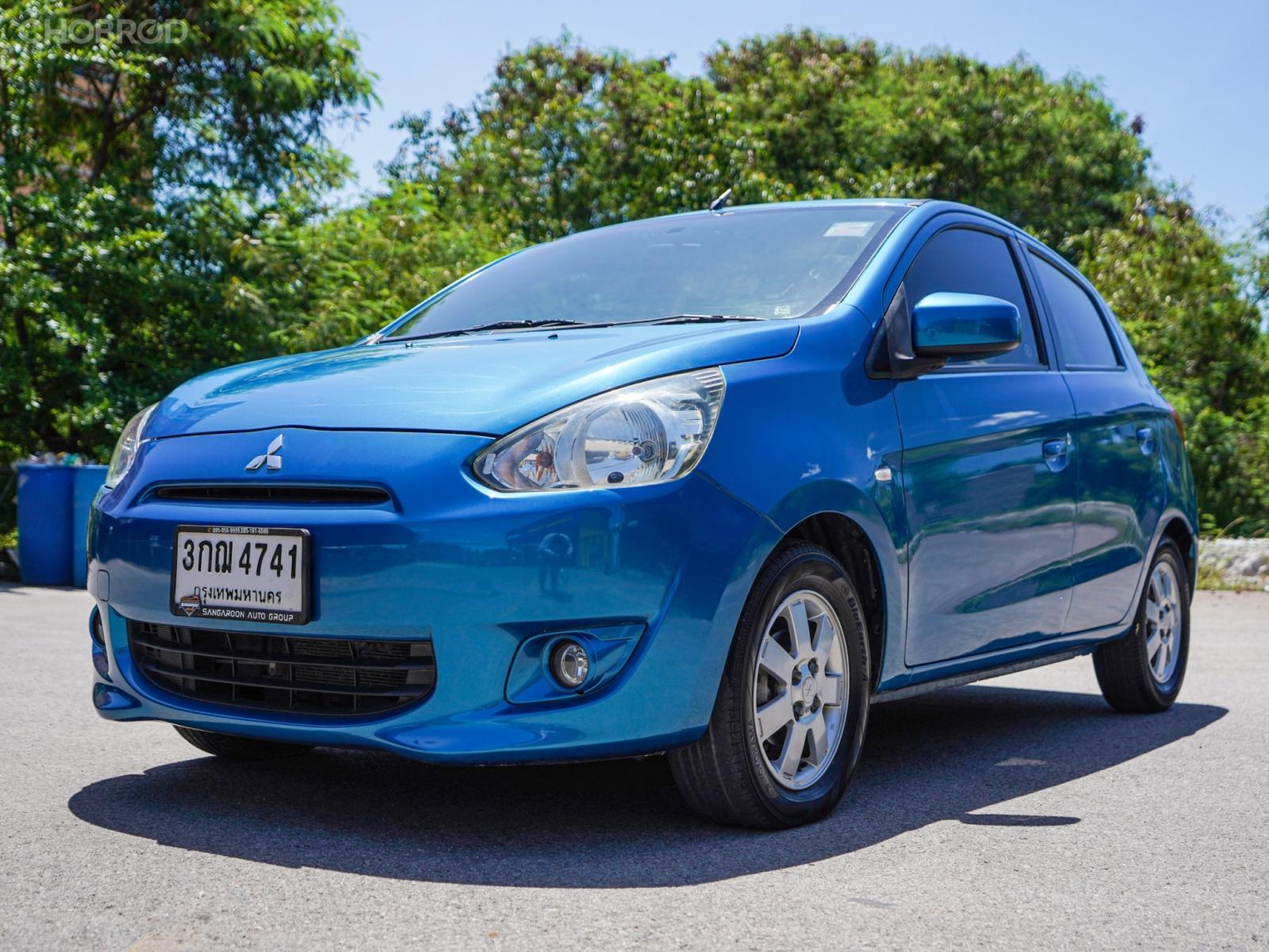license-plate: (174, 516, 311, 627)
